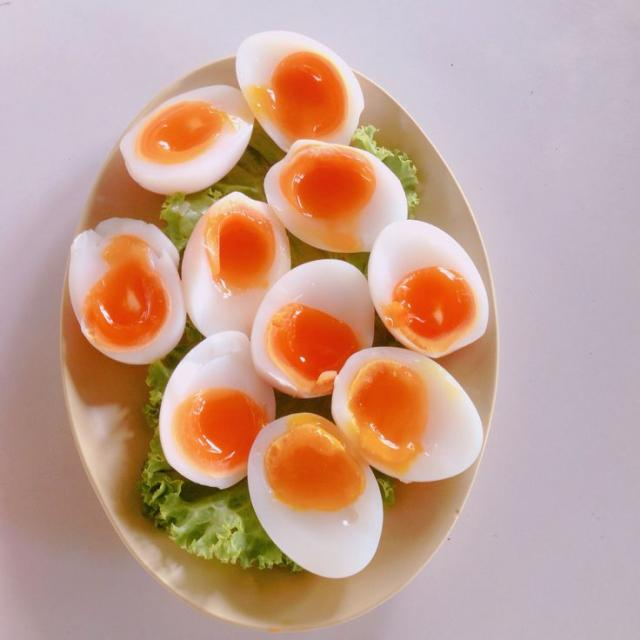lettuce: (139, 361, 300, 570), (186, 125, 283, 212), (352, 125, 418, 217), (160, 187, 221, 253), (161, 193, 185, 248)
